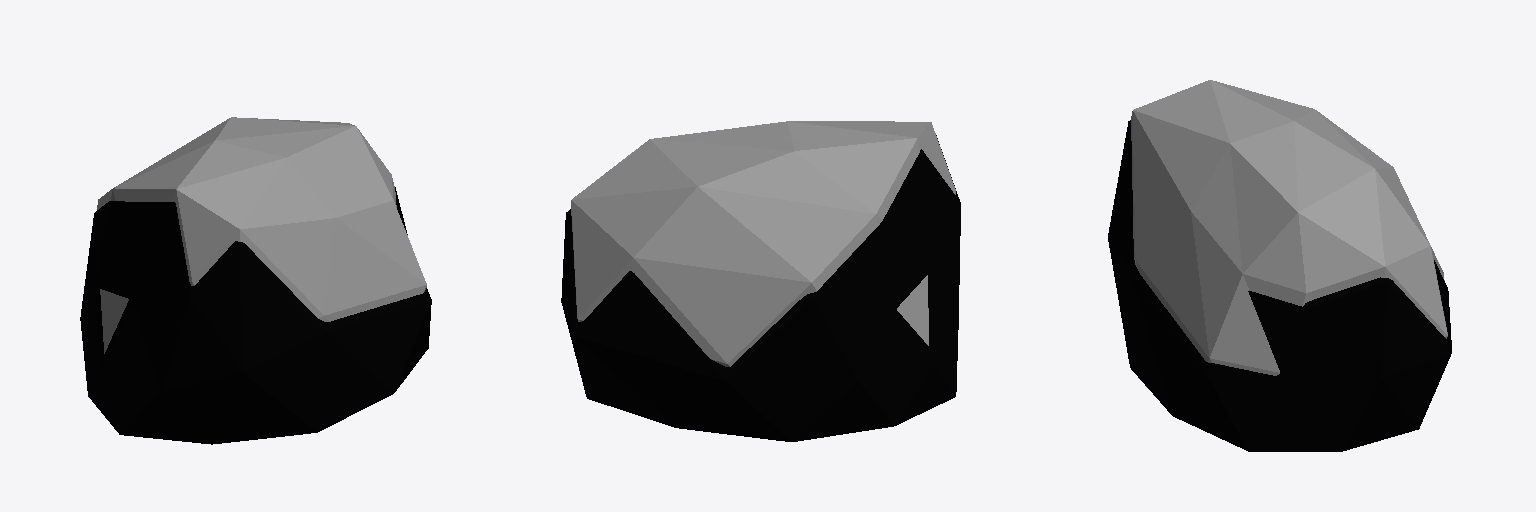
The model's file is IceRock3.obj.
3 views of the same model, side by side, from view 1: azimuth 30°, elevation 25°; view 2: azimuth 150°, elevation 25°; view 3: azimuth 270°, elevation 25° (orthographic).
Visible parts, largest first — view 1: IceRock3_Icosphere.004; view 2: IceRock3_Icosphere.004; view 3: IceRock3_Icosphere.004.
Boxes of the visible parts, box(x1,y1,x2,y2) form: IceRock3_Icosphere.004: box(80, 117, 431, 444); IceRock3_Icosphere.004: box(561, 121, 960, 441); IceRock3_Icosphere.004: box(1108, 80, 1451, 451).
Size of the model in its own units: 0.6662 by 0.4722 by 0.6126.